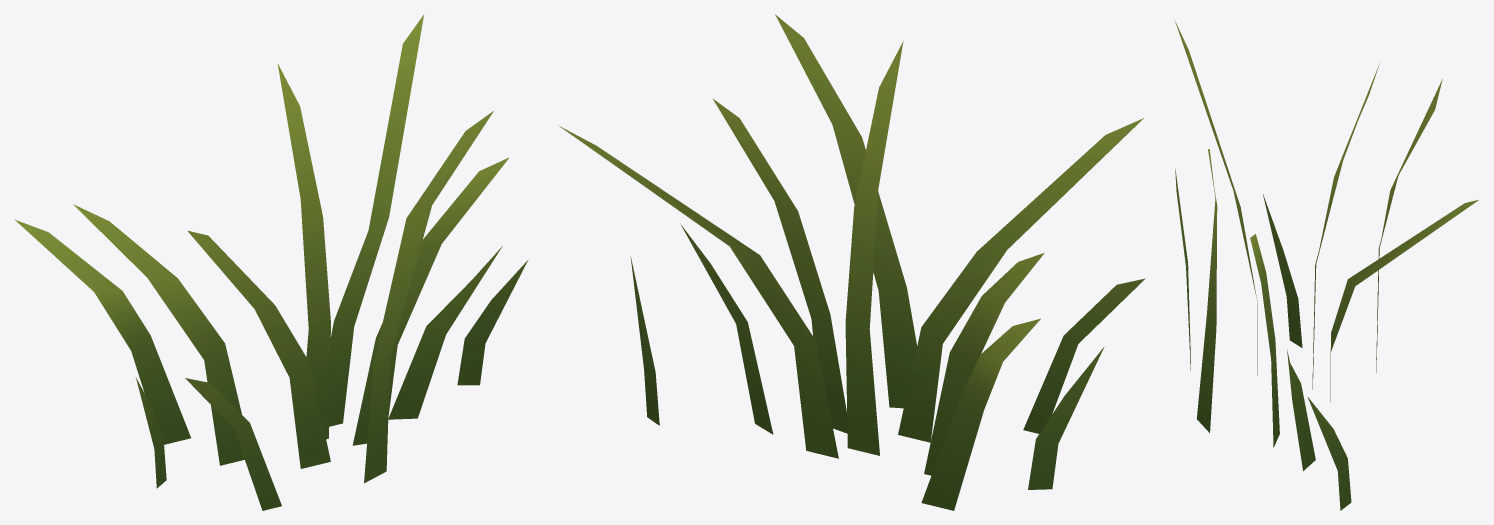
The model's file is Grass_Small.glb.
3 views of the same model, side by side, from view 1: azimuth 30°, elevation 25°; view 2: azimuth 150°, elevation 25°; view 3: azimuth 270°, elevation 25° (orthographic). The views are drawn at different scales.
Visible parts, largest first — view 1: Grass_Small; view 2: Grass_Small; view 3: Grass_Small.
Part boxes in pixels (bbox=[...]): Grass_Small: bbox=[15, 15, 528, 510]; Grass_Small: bbox=[558, 14, 1145, 510]; Grass_Small: bbox=[1175, 21, 1478, 510].
Bounding box in the file's own units: 0.47 × 0.3941 × 0.2775.
1 material, 1 textured.
